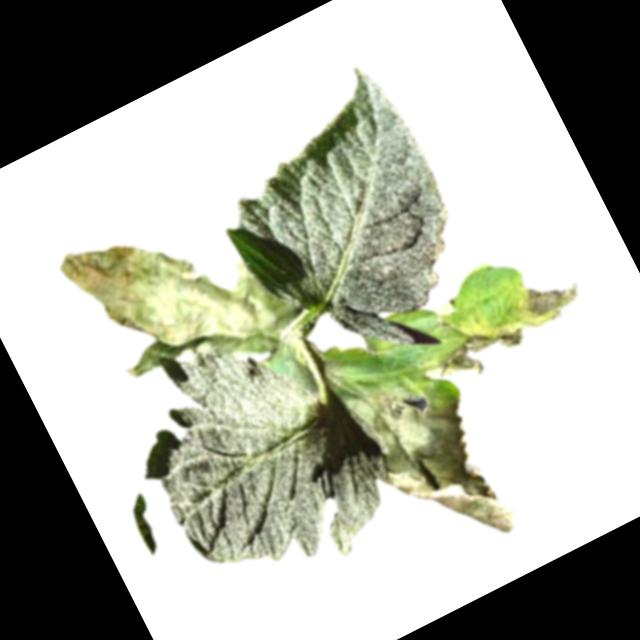Late_blight: (53, 170, 310, 418), (348, 356, 528, 573), (428, 307, 536, 390), (509, 264, 592, 335), (430, 294, 476, 342), (320, 351, 360, 390)
healthy: (184, 55, 499, 398), (98, 288, 416, 623)
